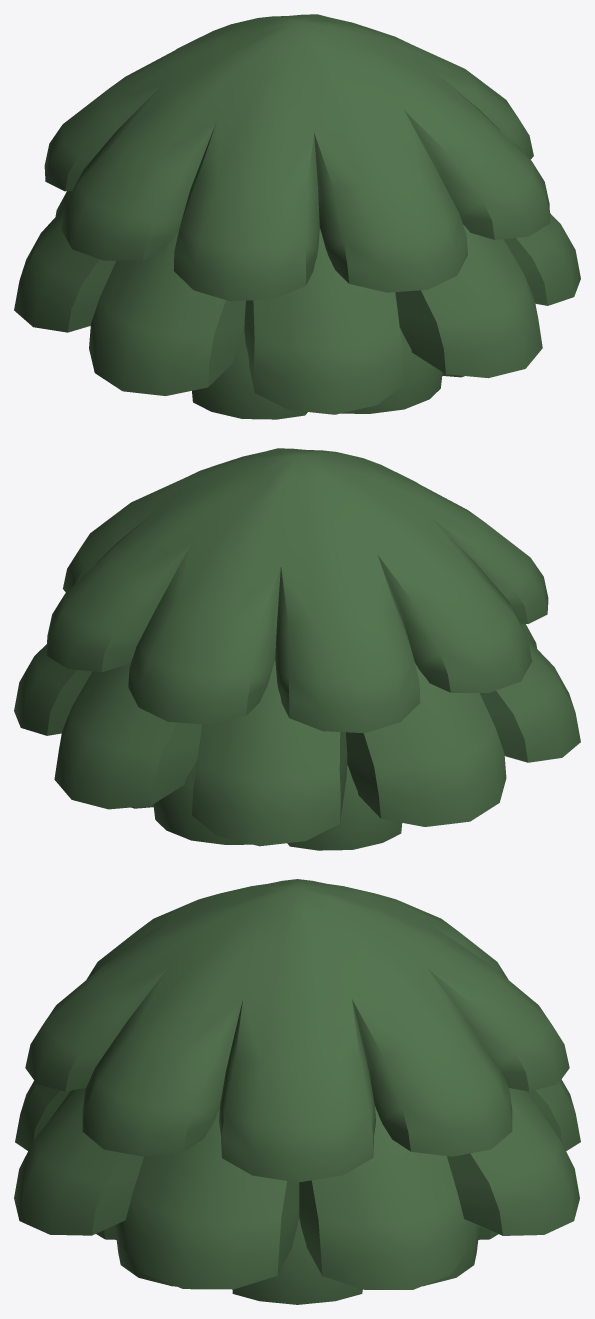
File: Bush.glb
The picture shows the model from 3 angles, top to bottom: view 1: azimuth 30°, elevation 25°; view 2: azimuth 150°, elevation 25°; view 3: azimuth 270°, elevation 25°; orthographic projection. The views are drawn at different scales.
Visible parts, largest first — view 1: Bush; view 2: Bush; view 3: Bush.
Boxes of the visible parts, x1,y1,x2,y2 form: Bush: (14,14,580,419); Bush: (14,448,580,850); Bush: (14,879,580,1304).
Size of the model in its own units: 3.52 by 2.23 by 3.53.
